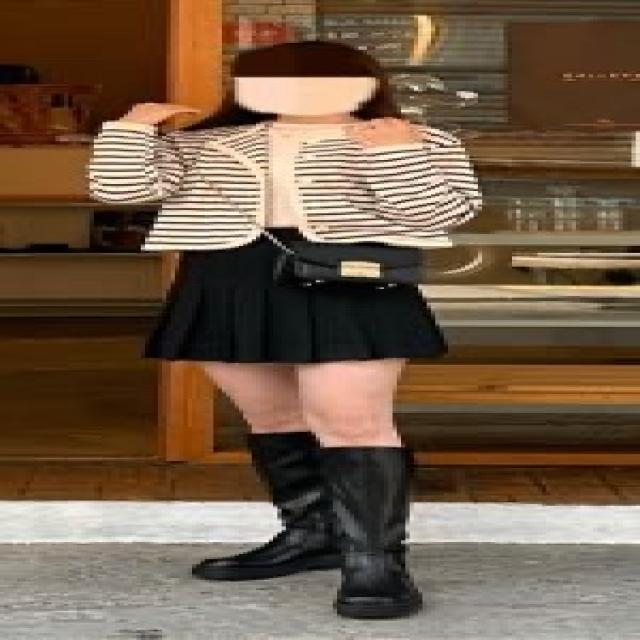cardigan: (81, 116, 481, 260)
skirt: (145, 235, 455, 366)
